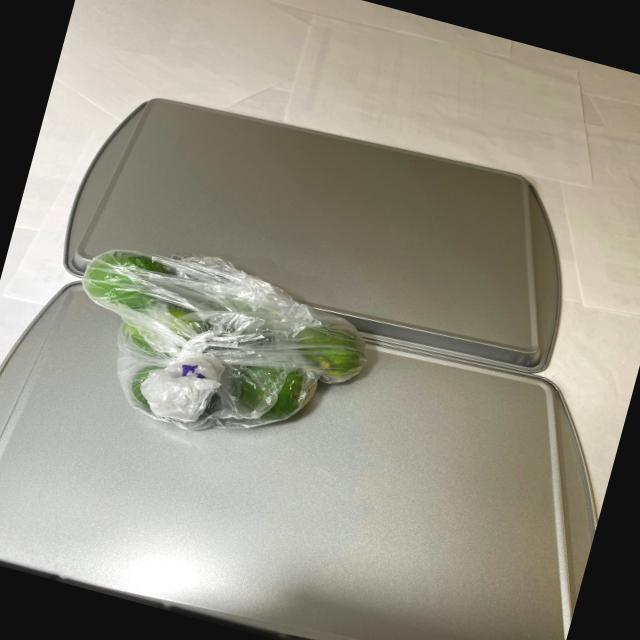lemon: (58, 244, 378, 466)
